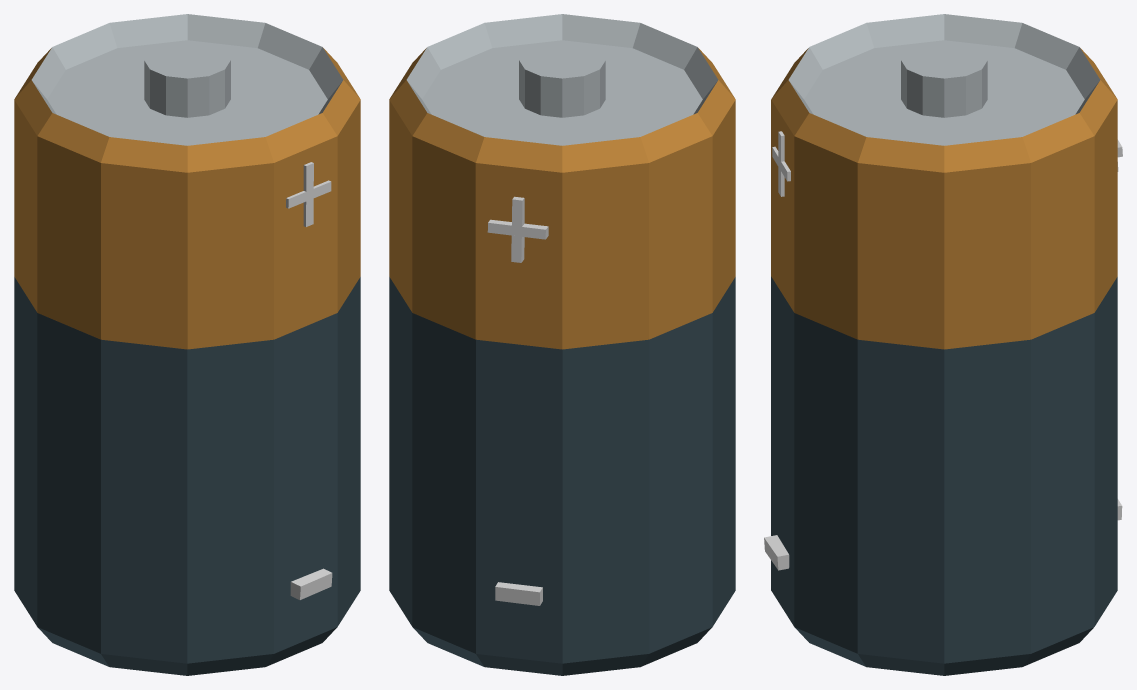
3 views of the same model, side by side, from view 1: azimuth 30°, elevation 25°; view 2: azimuth 150°, elevation 25°; view 3: azimuth 270°, elevation 25° (orthographic).
Parts seen in each view (by area): view 1: node_MeshObject1656607104-PolyPaper17; view 2: node_MeshObject1656607104-PolyPaper17; view 3: node_MeshObject1656607104-PolyPaper17.
Part boxes in pixels (x1,y1,x2,y2): node_MeshObject1656607104-PolyPaper17: [14, 14, 360, 675]; node_MeshObject1656607104-PolyPaper17: [389, 14, 735, 675]; node_MeshObject1656607104-PolyPaper17: [764, 14, 1122, 675].
Bounding box in the file's own units: 0.9789 × 1.71 × 1.01.
